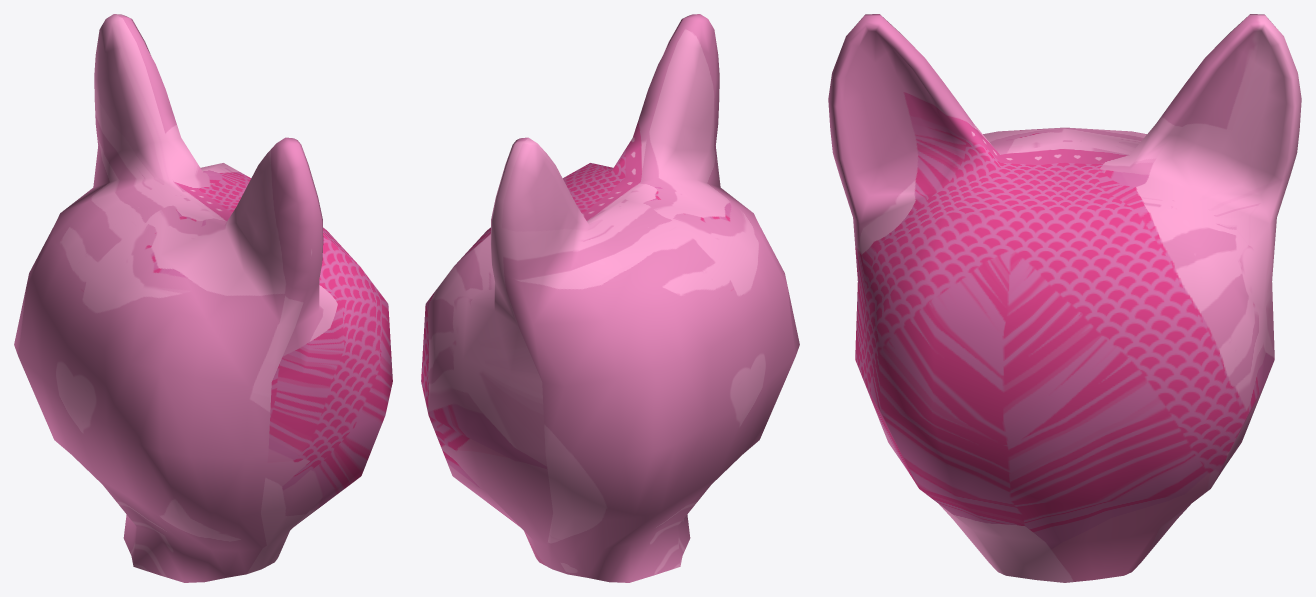
Rendered from BigYellowInGame.fbx.
3 views of the same model, side by side, from view 1: azimuth 30°, elevation 25°; view 2: azimuth 150°, elevation 25°; view 3: azimuth 270°, elevation 25° (orthographic). The views are drawn at different scales.
Visible parts, largest first — view 1: Object001; view 2: Object001; view 3: Object001.
Part boxes in pixels (<box>): Object001: <box>14,14,392,582</box>; Object001: <box>421,14,799,582</box>; Object001: <box>828,14,1301,582</box>.
Bounding box in the file's own units: 36.77 × 60.32 × 48.52.
